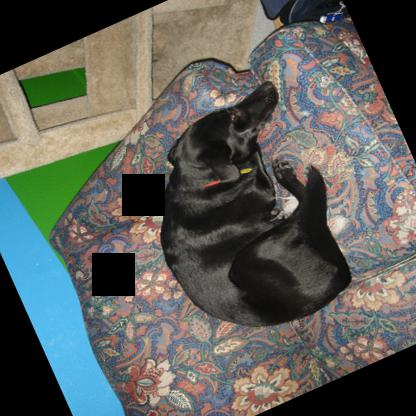suitcase: (258, 0, 350, 25)
